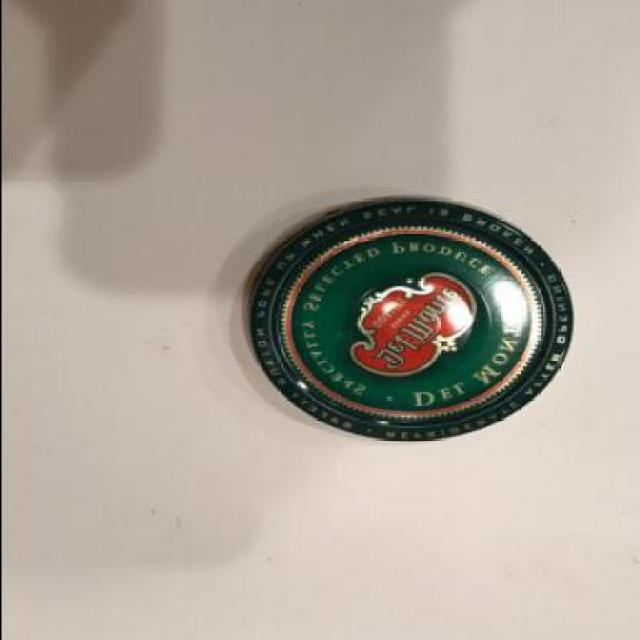METAL: (248, 196, 574, 444)
